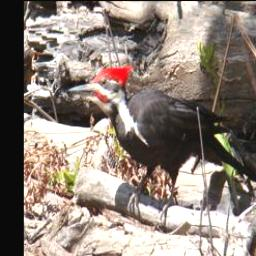Woodpecker: (65, 62, 256, 226)
